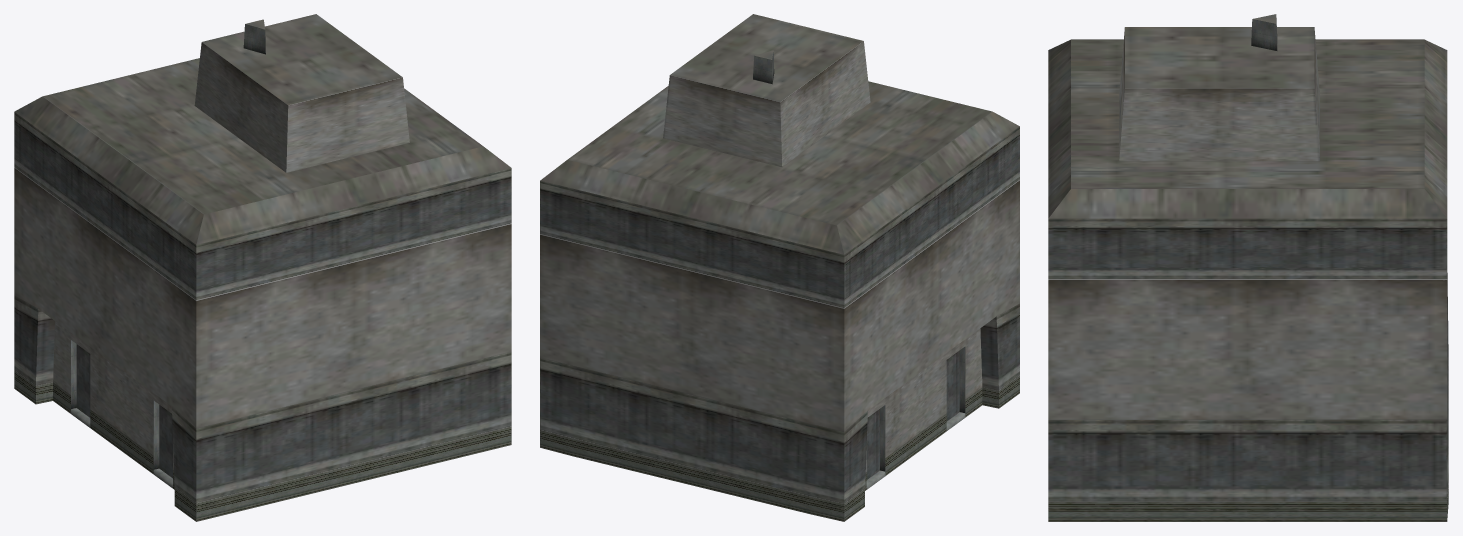
File: thm_corl_imprv_slum_16x16_s01_l3.fbx
3 views of the same model, side by side, from view 1: azimuth 30°, elevation 25°; view 2: azimuth 150°, elevation 25°; view 3: azimuth 270°, elevation 25° (orthographic). The views are drawn at different scales.
Visible parts, largest first — view 1: mesh_node; view 2: mesh_node; view 3: mesh_node.
Part boxes in pixels (box(x1,y1,x2,y2)): mesh_node: box(14, 14, 511, 521); mesh_node: box(540, 14, 1019, 521); mesh_node: box(1048, 14, 1448, 521).
Size of the model in its own units: 14.31 by 16.66 by 14.35.
1 material, 1 textured.
